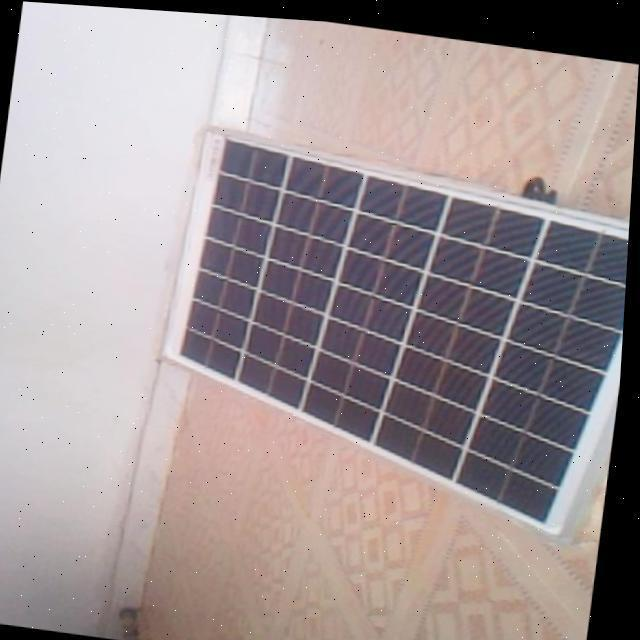Normal Solar Panel: (148, 121, 634, 535)
